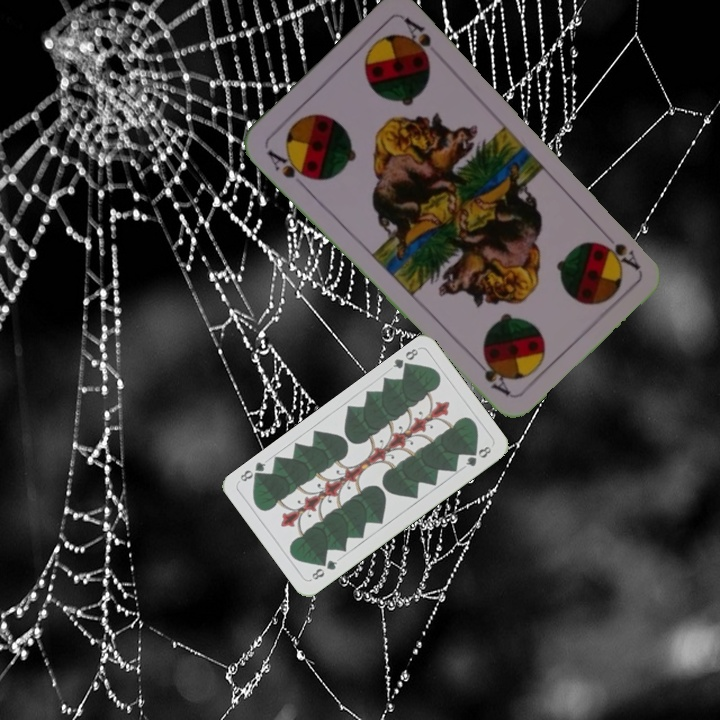G8: (389, 344, 421, 374), (307, 556, 340, 583)
SA: (263, 146, 314, 183), (597, 238, 643, 273)
